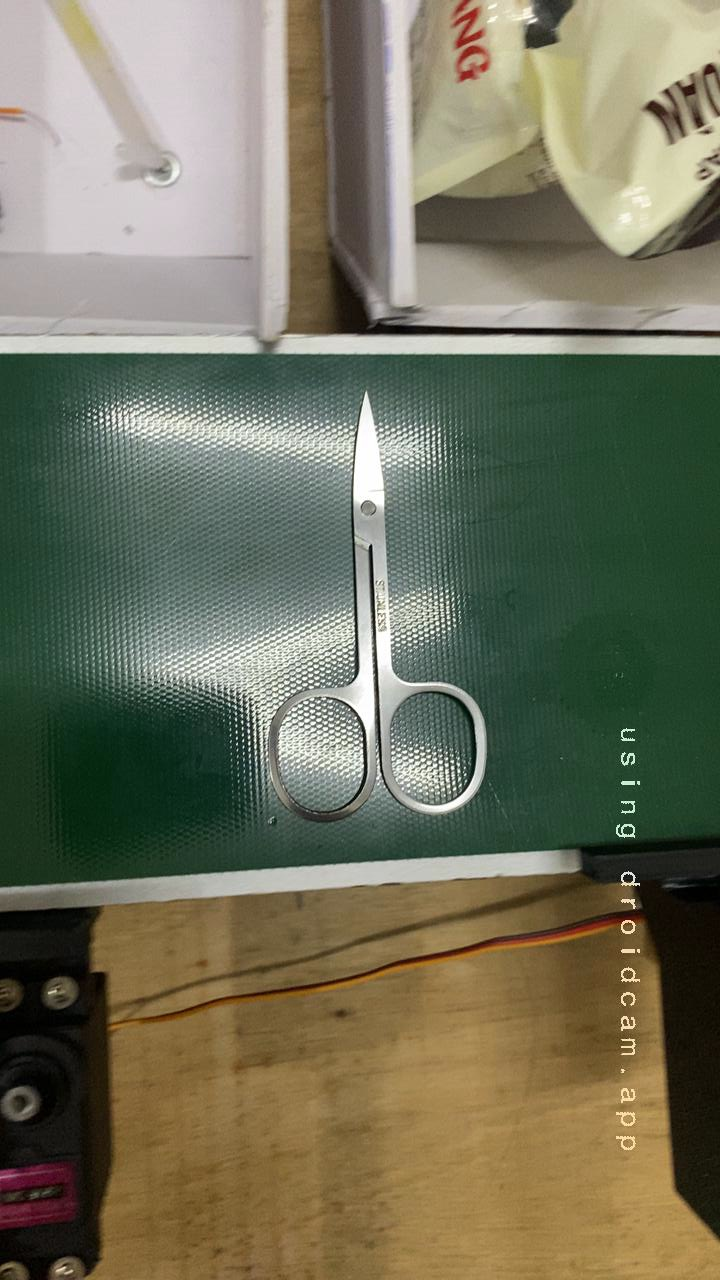scissor: (203, 392, 529, 844)
